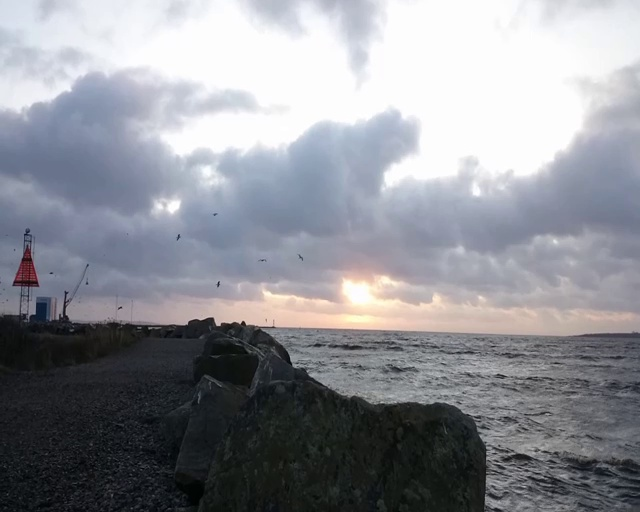BIRD: (297, 253, 304, 261)
